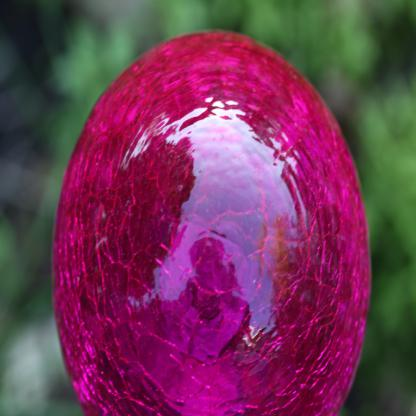Ball: (52, 30, 372, 416)
